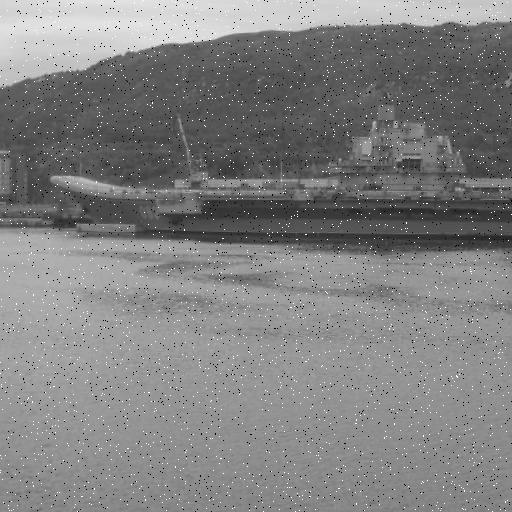Portanaves: (49, 86, 512, 239)
